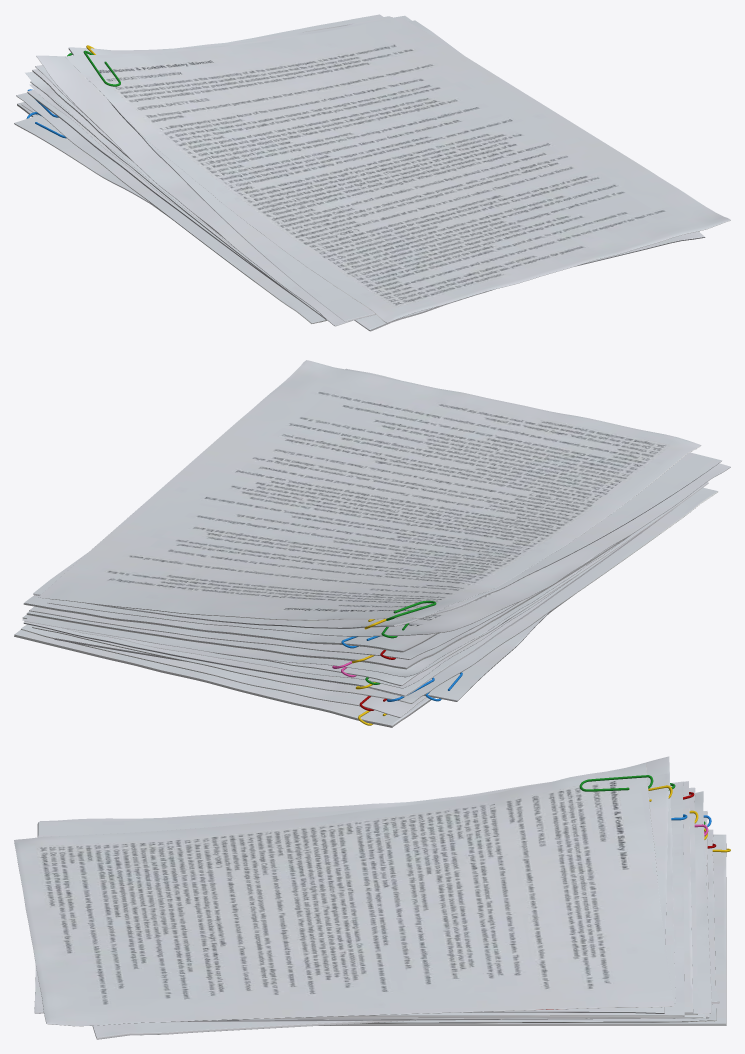
Rendered from paper_stack_a05.glb.
3 views of the same model, one above another, from view 1: azimuth 30°, elevation 25°; view 2: azimuth 150°, elevation 25°; view 3: azimuth 270°, elevation 25° (orthographic). The views are drawn at different scales.
Visible parts, largest first — view 1: sm_paper_stack_a05_mesh_00.001; view 2: sm_paper_stack_a05_mesh_00.001; view 3: sm_paper_stack_a05_mesh_00.001.
Boxes of the visible parts, bbox=[...] form: sm_paper_stack_a05_mesh_00.001: bbox=[14, 14, 730, 331]; sm_paper_stack_a05_mesh_00.001: bbox=[14, 360, 730, 727]; sm_paper_stack_a05_mesh_00.001: bbox=[14, 756, 730, 1039].
Bounding box in the file's own units: 0.2519 × 0.043 × 0.3383.
Materials: 2 (2 with a texture image).
